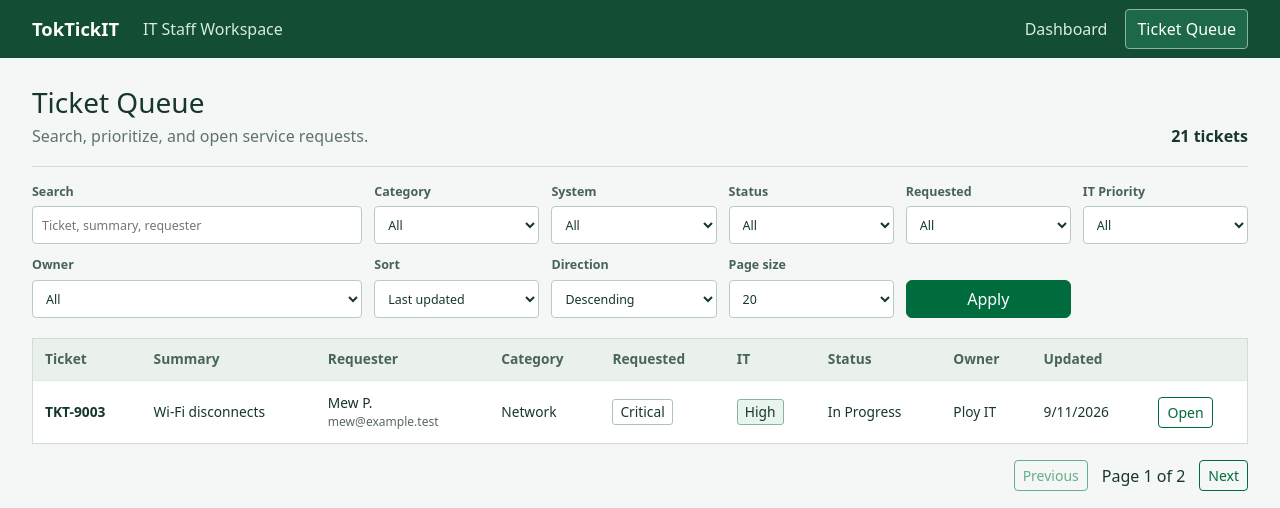
IT Staff Ticket Queue › submits filters and uses server pagination
Type "Wi-Fi" into the field named "Search tickets" at (197, 225), box [32,206,362,244]
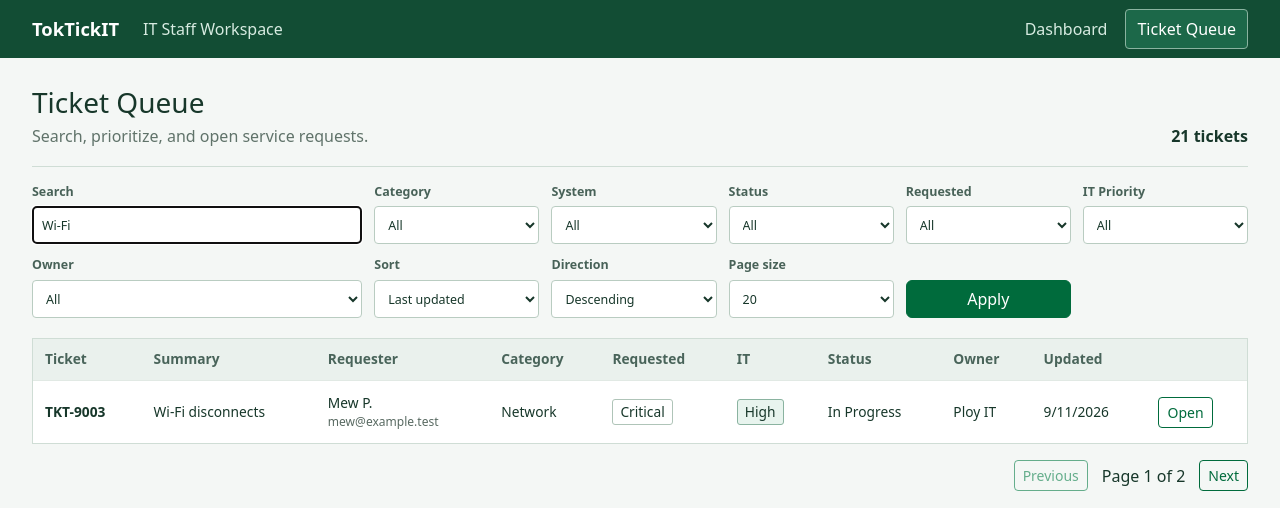
Select "In Progress" in the dropdown labelled "Status" at (811, 225), box [729,206,894,244]
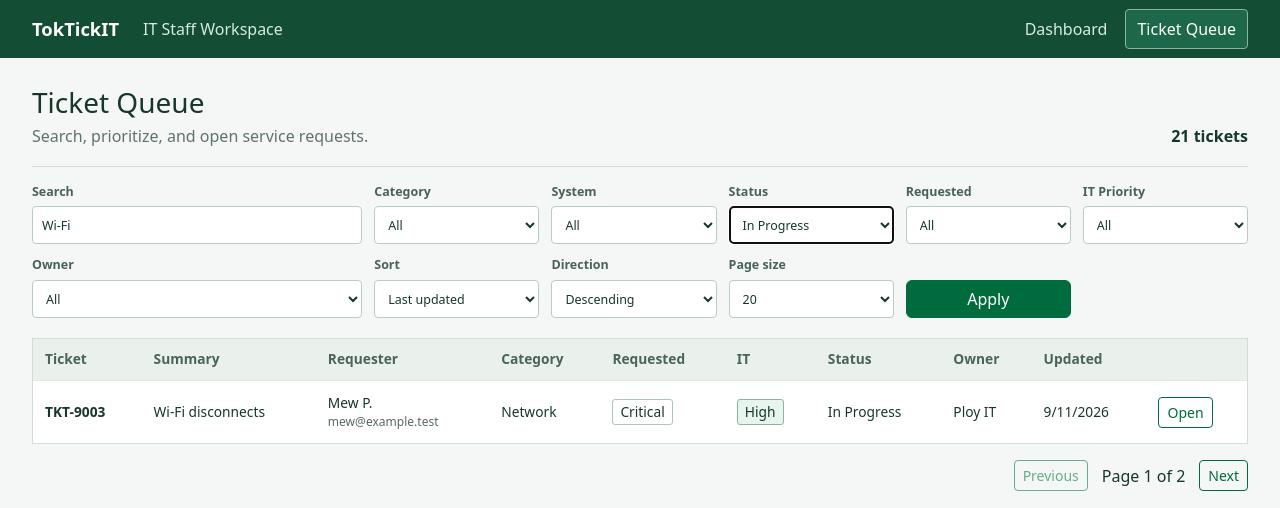
Select "Mine" in the dropdown labelled "Owner" at (197, 299), box [32,280,362,318]
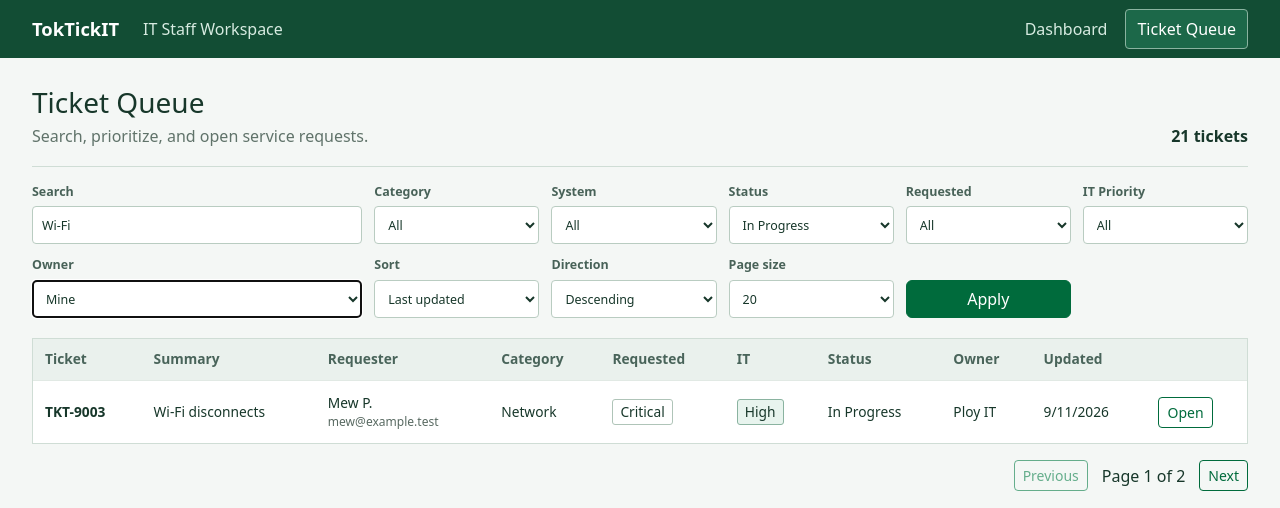
Click the button "Apply" at (988, 299), box [906,280,1071,318]
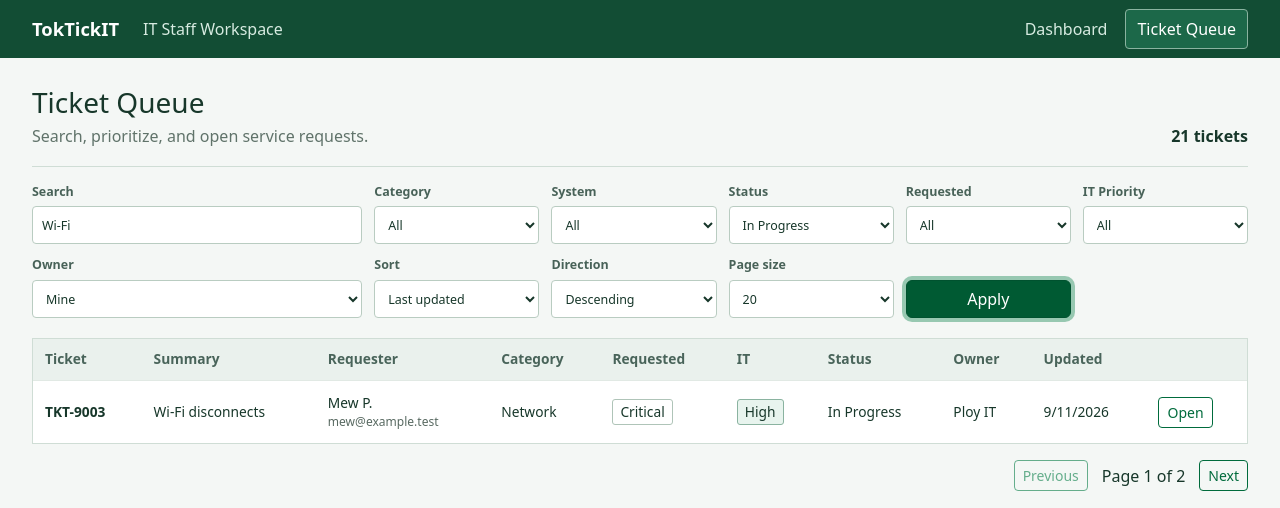
Click the button "Next" at (1224, 476), box [1199,460,1248,491]
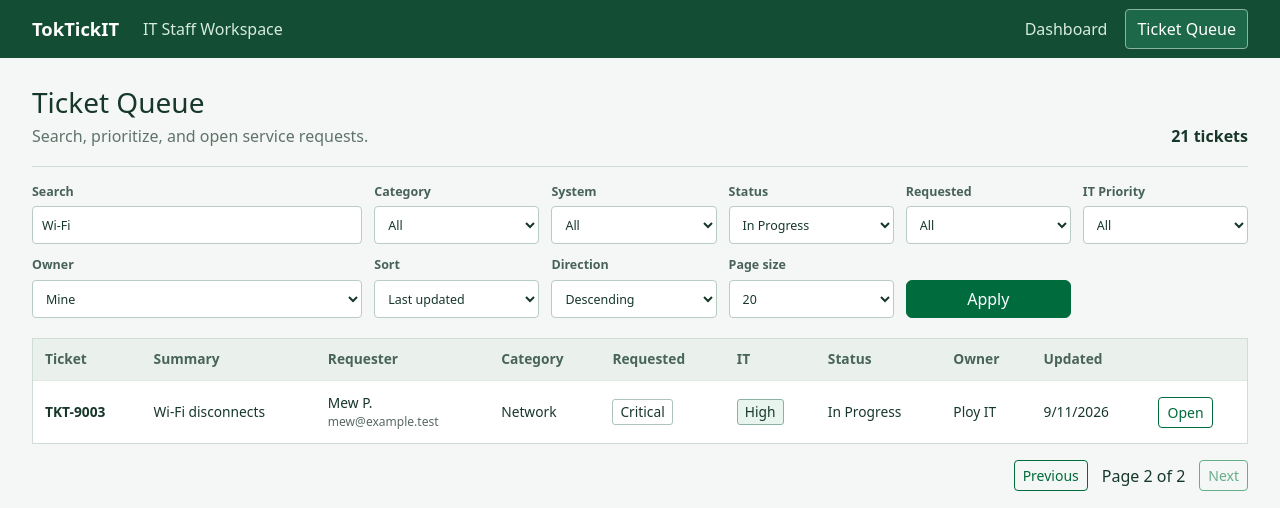
Result: the text "Page 2 of 2" is shown at [1102,464,1185,488]
